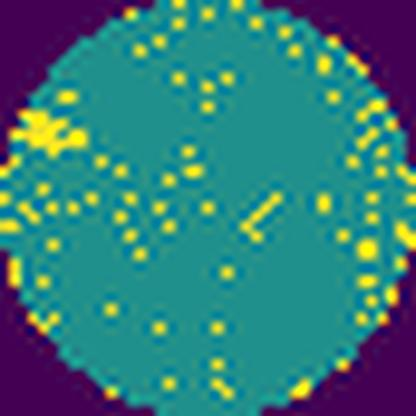Loc: (18, 112, 89, 158)
